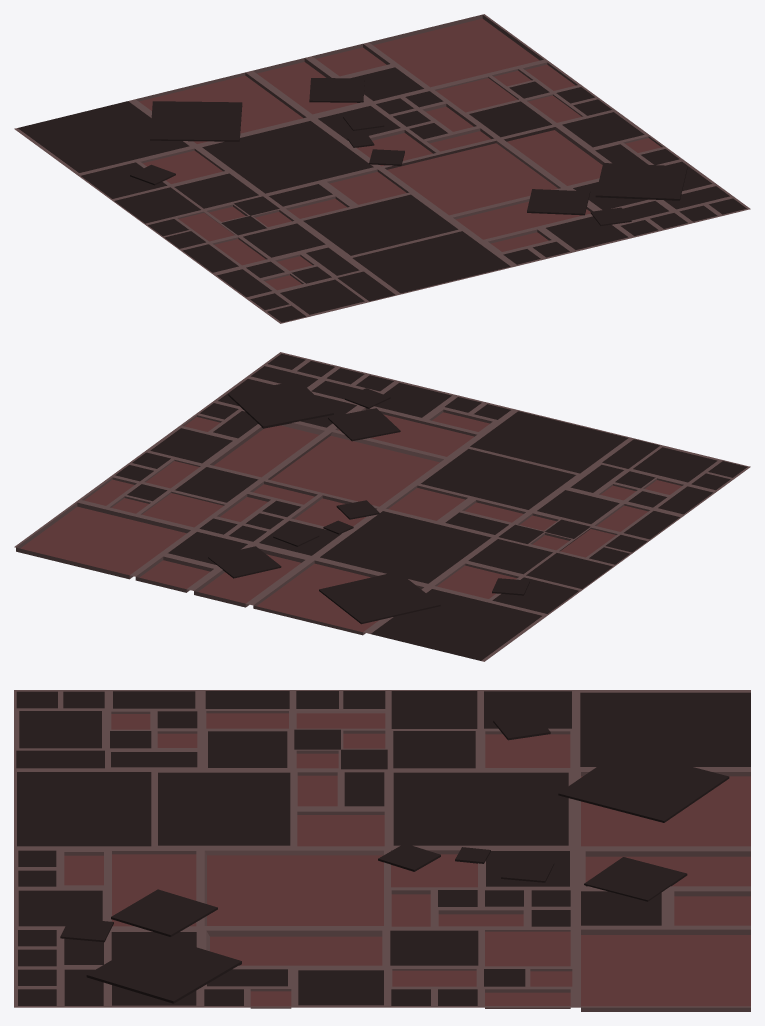
File: FBX_sol.fbx
3 views of the same model, one above another, from view 1: azimuth 30°, elevation 25°; view 2: azimuth 150°, elevation 25°; view 3: azimuth 270°, elevation 25° (orthographic). The views are drawn at different scales.
Parts seen in each view (by area): view 1: pCube51; view 2: pCube51; view 3: pCube51.
Part boxes in pixels (left/top/right/bottom): pCube51: left=14, top=14, right=750, bottom=323; pCube51: left=14, top=352, right=750, bottom=661; pCube51: left=14, top=690, right=750, bottom=1011.
Bounding box in the file's own units: 1166 × 14.17 × 1144.
